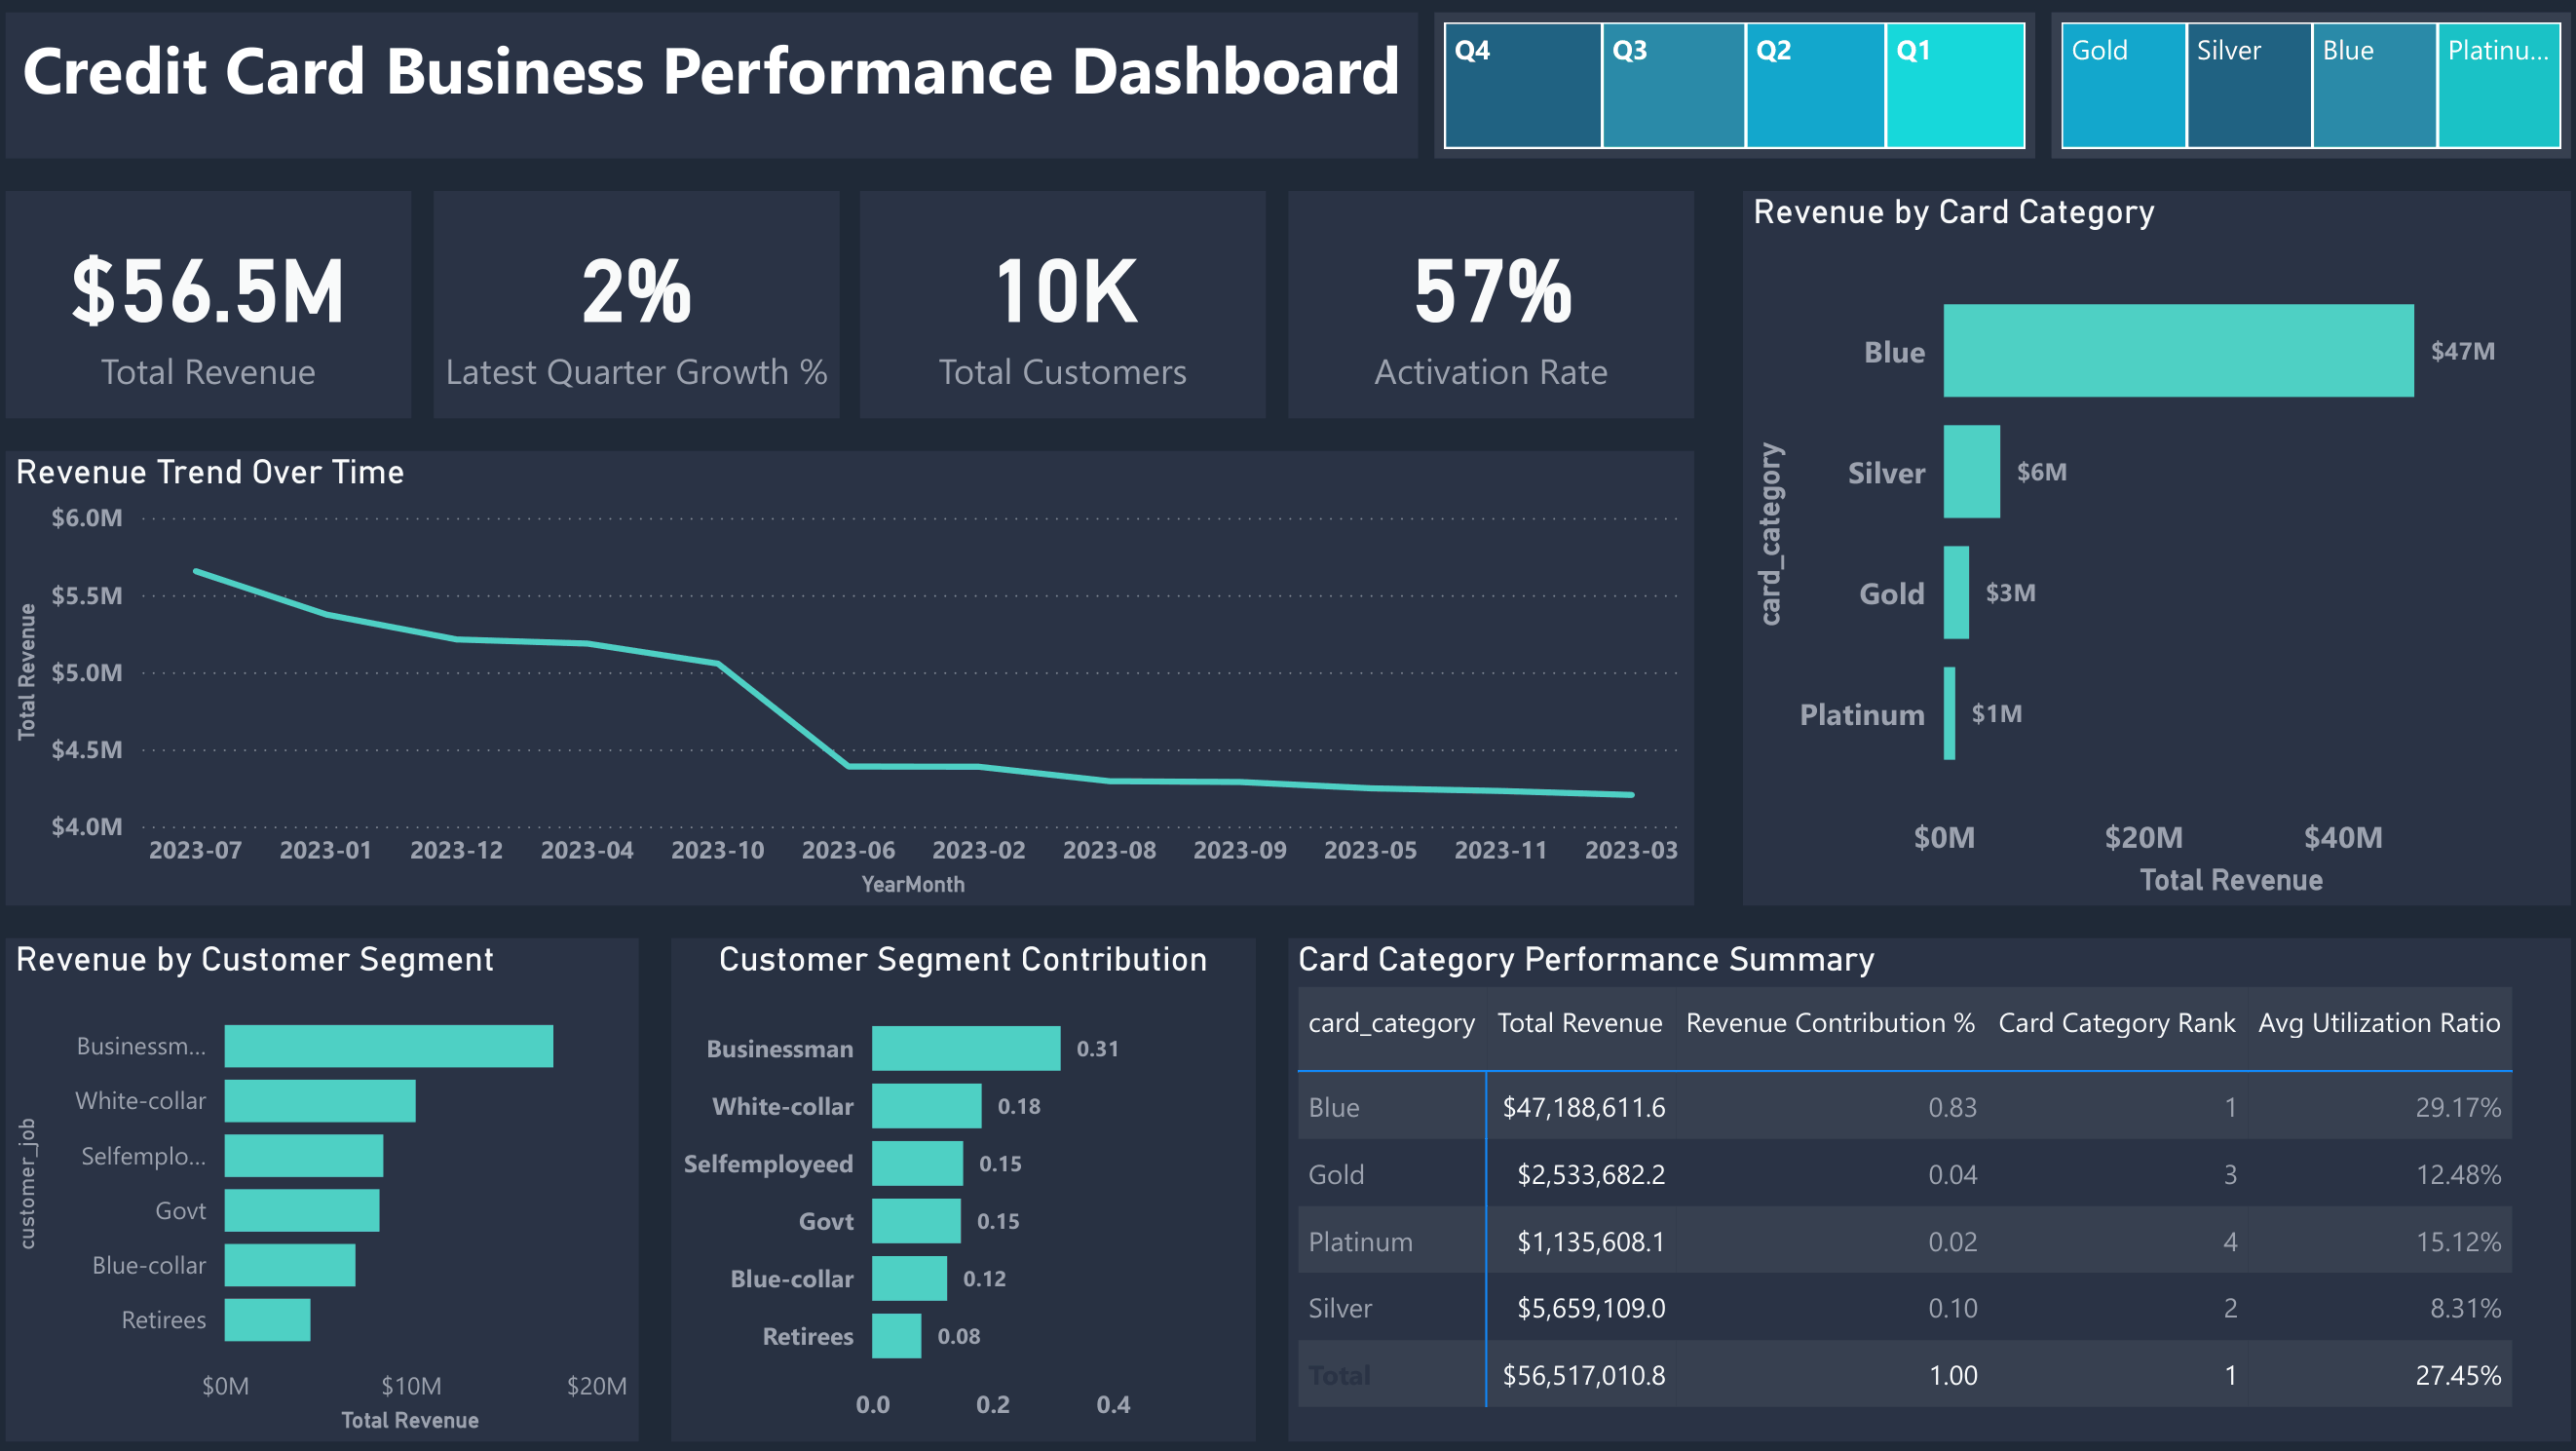

The page's visual inventory and layout, read from the dashboard file:
{"tool":"powerbi","page":{"name":"Credit Card Transaction Report","canvas":[1280,720],"ordinal":0},"visuals":[{"type":"textbox","box":[8,8,696,72],"z":0},{"type":"barChart","title":"Customer Segment Contribution","fields":{"Category":["public cust_detail.customer_job"],"Y":["MyMeasures.Customer Contribution %"]},"box":[336,464,288,248],"z":2000},{"type":"treemap","fields":{"Group":["public cc_detail.qtr"],"Values":["Avg(public cc_detail.client_num)"]},"box":[712,8,296,72],"z":3000},{"type":"treemap","fields":{"Group":["public cc_detail.card_category"],"Values":["Avg(public cc_detail.client_num)"]},"box":[1016,8,256,72],"z":4000},{"type":"card","fields":{"Values":["MyMeasures.Total Revenue"]},"box":[8,96,200,112],"z":5000},{"type":"card","fields":{"Values":["MyMeasures.Latest Quarter Growth %"]},"box":[218.7,96,200,112],"z":6000},{"type":"card","fields":{"Values":["MyMeasures.Total Customers"]},"box":[429.3,96,200,112],"z":7000},{"type":"card","fields":{"Values":["MyMeasures.Activation Rate"]},"box":[640,96,200,112],"z":8000},{"type":"lineChart","title":"Revenue Trend Over Time","fields":{"Category":["Date Table.YearMonth"],"Y":["MyMeasures.Total Revenue"]},"box":[8,224,832,224],"z":9000},{"type":"clusteredBarChart","title":"Revenue by Card Category","fields":{"Category":["public cc_detail.card_category"],"Y":["MyMeasures.Total Revenue"]},"box":[864,96,408,352],"z":11000},{"type":"clusteredBarChart","title":"Revenue by Customer Segment","fields":{"Category":["public cust_detail.customer_job"],"Y":["MyMeasures.Total Revenue"]},"box":[8,464,312,248],"z":12000},{"type":"pivotTable","title":"Card Category Performance Summary","fields":{"Rows":["public cc_detail.card_category"],"Values":["MyMeasures.Total Revenue","MyMeasures.Revenue Contribution %","MyMeasures.Card Category Rank","MyMeasures.Avg Utilization Ratio"]},"box":[640,464,632,248],"z":13000}]}

Visuals, with their boxes in screenshot pixels (x1, y1, x2, y2), scaled from the page's 1280x720 canvas onto the 2576x1451 screenshot:
textbox: rect(17, 17, 1417, 161)
"Customer Segment Contribution" barChart: rect(676, 936, 1256, 1434)
treemap - public cc_detail.qtr x Avg(public cc_detail.client_num): rect(1433, 17, 2028, 161)
treemap - public cc_detail.card_category x Avg(public cc_detail.client_num): rect(2045, 17, 2559, 161)
card - MyMeasures.Total Revenue: rect(17, 194, 419, 419)
card - MyMeasures.Latest Quarter Growth %: rect(440, 194, 843, 419)
card - MyMeasures.Total Customers: rect(864, 194, 1267, 419)
card - MyMeasures.Activation Rate: rect(1288, 194, 1690, 419)
"Revenue Trend Over Time" lineChart: rect(17, 451, 1690, 902)
"Revenue by Card Category" clusteredBarChart: rect(1739, 194, 2559, 902)
"Revenue by Customer Segment" clusteredBarChart: rect(17, 936, 644, 1434)
"Card Category Performance Summary" pivotTable: rect(1288, 936, 2559, 1434)
